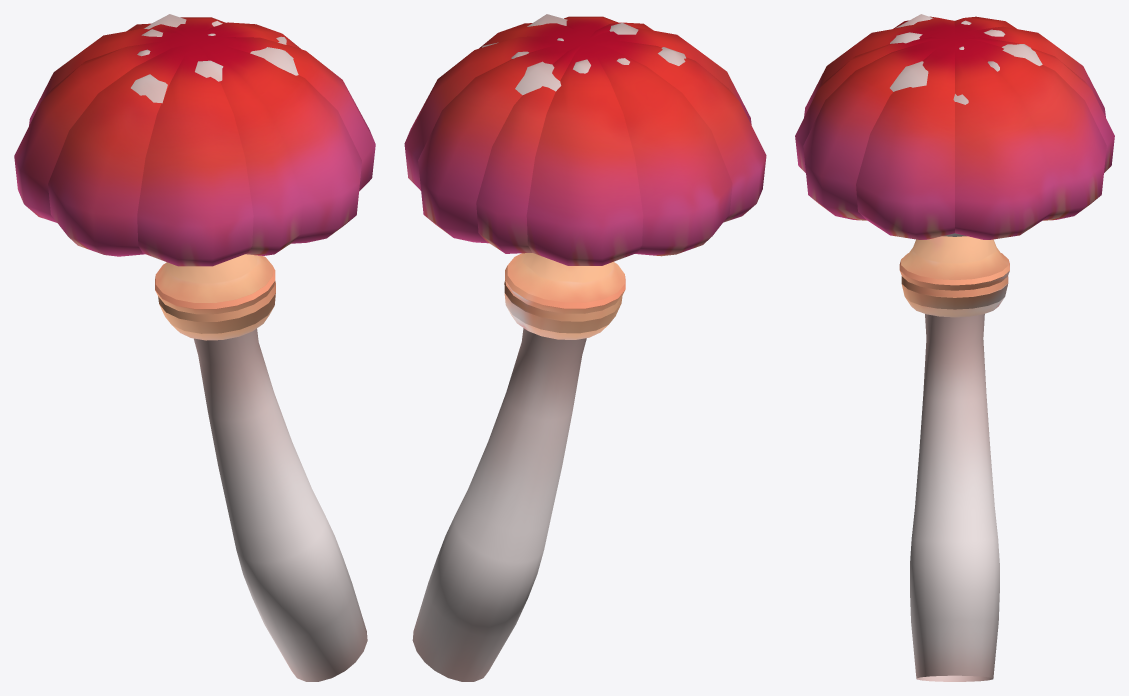
The model's file is Long_mushroom_4.fbx.
The picture shows the model from 3 angles, left to right: view 1: azimuth 30°, elevation 25°; view 2: azimuth 150°, elevation 25°; view 3: azimuth 270°, elevation 25°; orthographic projection. The views are drawn at different scales.
Parts seen in each view (by area): view 1: Object009, Object021, Cylinder008; view 2: Object009, Object021, Cylinder008; view 3: Object009, Object021, Cylinder008.
Part boxes in pixels (x1,y1,x2,y2): Object009: (14, 17, 375, 266); Object021: (155, 254, 367, 681); Cylinder008: (131, 14, 298, 103); Object009: (404, 16, 766, 265); Object021: (412, 253, 625, 681); Cylinder008: (482, 14, 685, 95); Object009: (795, 16, 1114, 239); Object021: (899, 233, 1009, 681); Cylinder008: (890, 14, 1042, 104).
Size of the model in its own units: 3.23 by 6.42 by 3.1.
